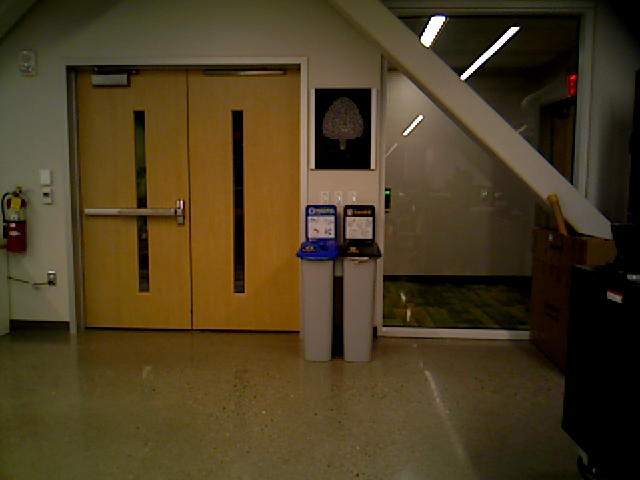painting1: (308, 90, 377, 170)
